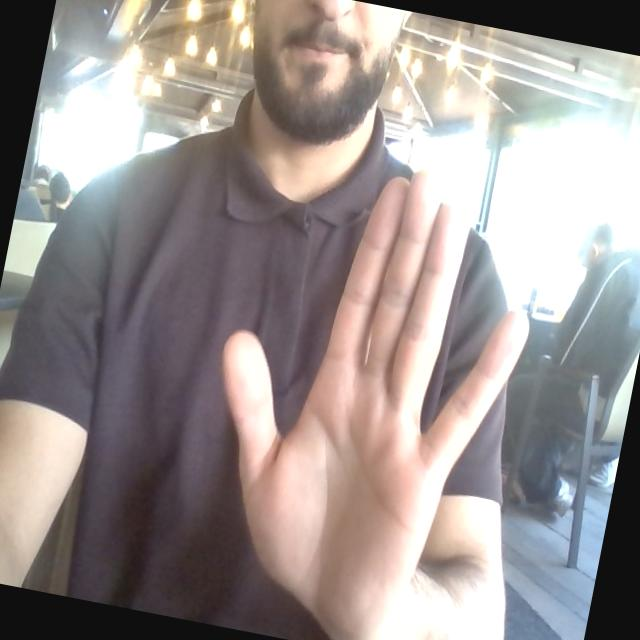Hand: (223, 172, 527, 639)
